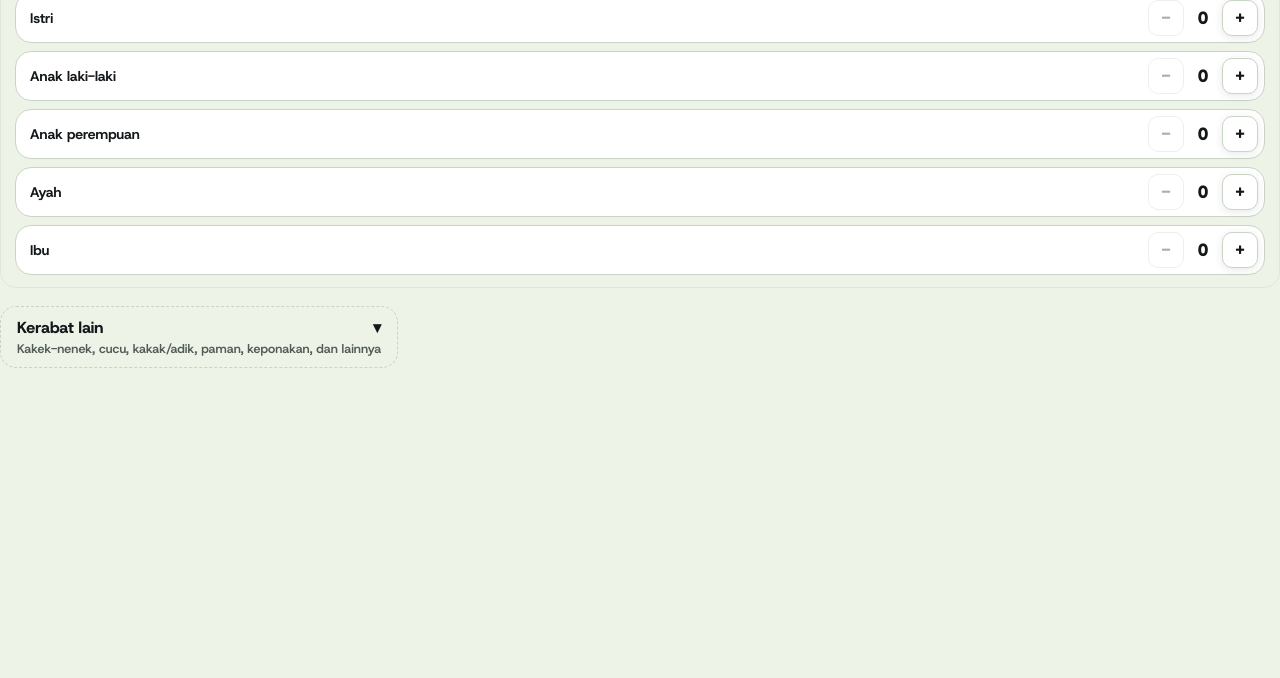
Test: dzawil arham tidak ditawarkan, tapi dijelaskan kenapa tidak ada
Click the button "Kerabat lain" at (199, 337), box [0,306,398,368]
(page scrolled)
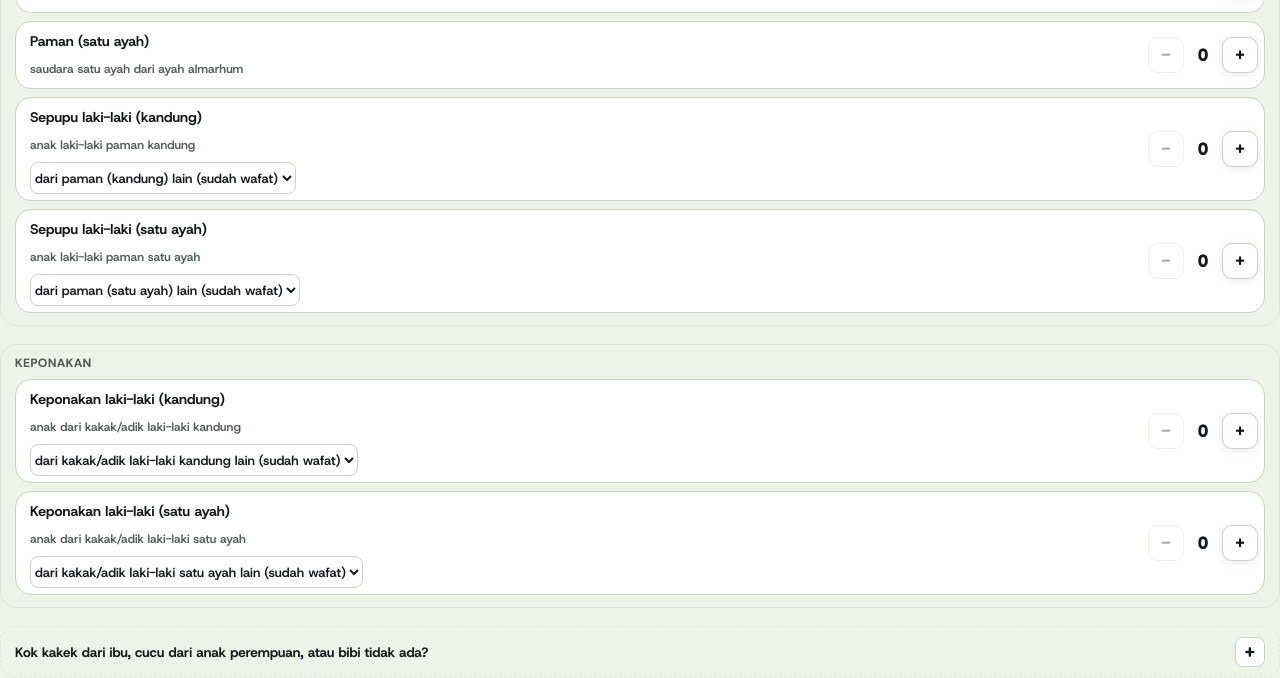
Now the heading "Kok kakek dari ibu" is shown, box [15,643,428,661]
